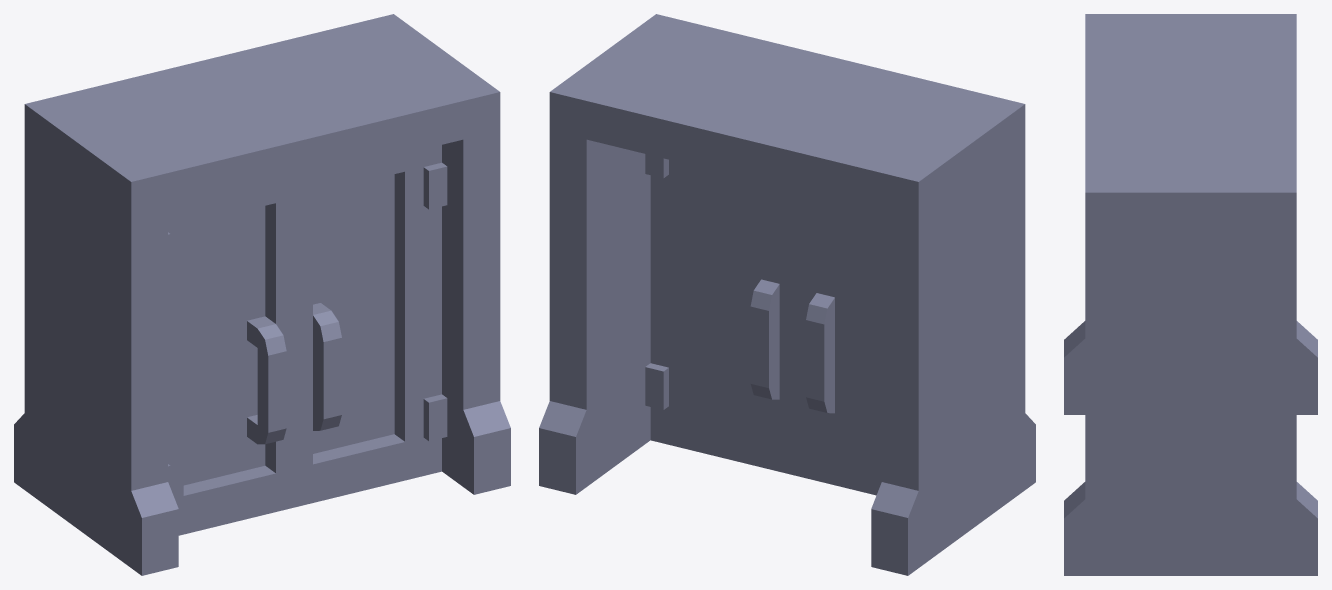
Rendered from wall-door-rotate.obj.
3 renders of one model, left to right at view 1: azimuth 30°, elevation 25°; view 2: azimuth 150°, elevation 25°; view 3: azimuth 270°, elevation 25°, orthographic.
Size of the model in its own units: 1 by 1 by 0.6.
